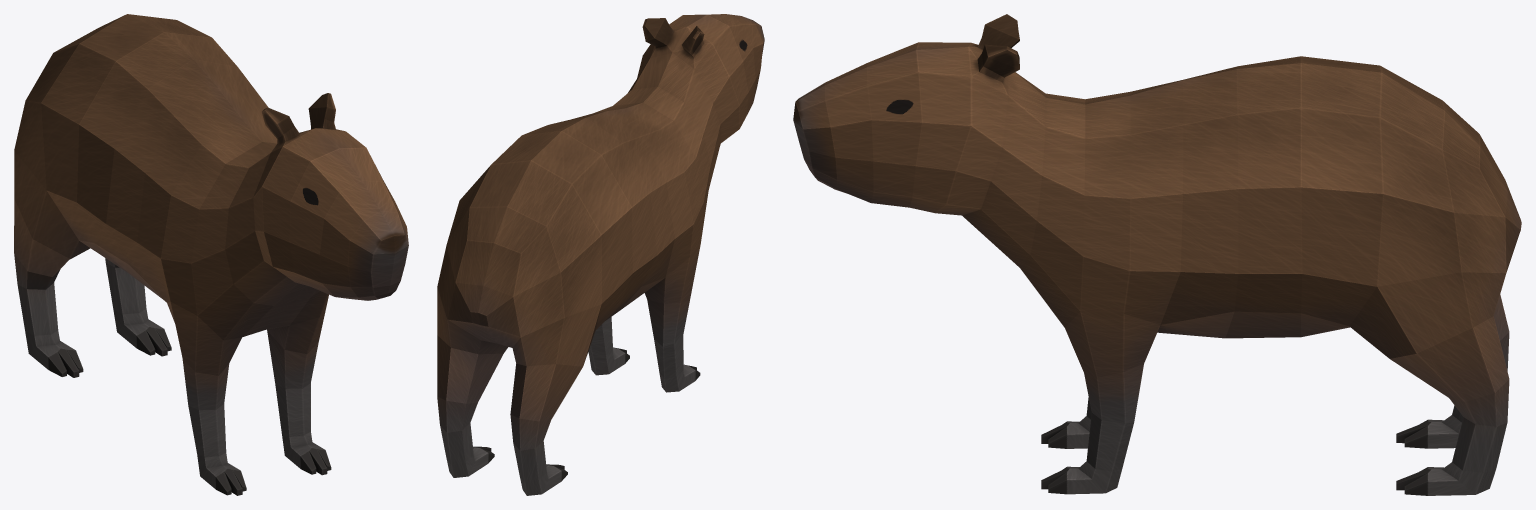
Rendered from capybara.gltf.
3 views of the same model, side by side, from view 1: azimuth 30°, elevation 25°; view 2: azimuth 150°, elevation 25°; view 3: azimuth 270°, elevation 25° (orthographic). The views are drawn at different scales.
Visible parts, largest first — view 1: Capybara_mesh; view 2: Capybara_mesh; view 3: Capybara_mesh.
Part boxes in pixels (box(x1,y1,x2,y2)): Capybara_mesh: box(14, 14, 408, 495); Capybara_mesh: box(437, 14, 764, 495); Capybara_mesh: box(793, 14, 1521, 495).
Size of the model in its own units: 2.16 by 4.72 by 7.16.
Materials: 1 (1 with a texture image).
